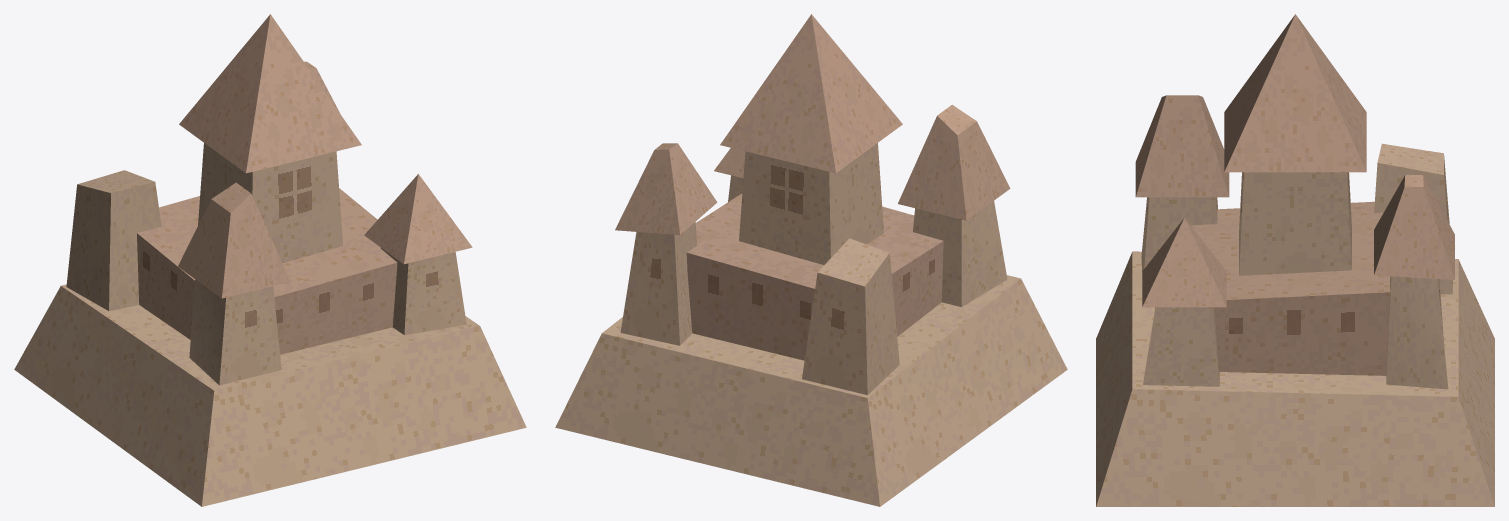
Rendered from 0303_Sand_Castle.glb.
3 renders of one model, left to right at view 1: azimuth 30°, elevation 25°; view 2: azimuth 150°, elevation 25°; view 3: azimuth 270°, elevation 25°, orthographic. The views are drawn at different scales.
Parts seen in each view (by area): view 1: part_0; view 2: part_0; view 3: part_0.
Boxes of the visible parts, x1,y1,x2,y2 form: part_0: [14, 14, 526, 506]; part_0: [555, 14, 1067, 506]; part_0: [1096, 14, 1494, 506].
Size of the model in its own units: 0.4125 by 0.4666 by 0.4125.
Materials: 1 (1 with a texture image).
